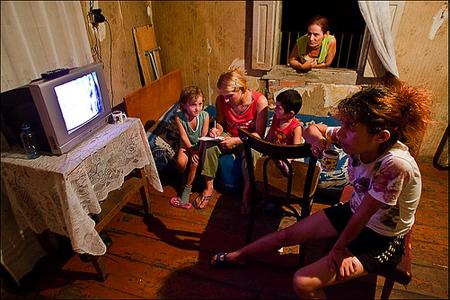person: (210, 85, 420, 300)
